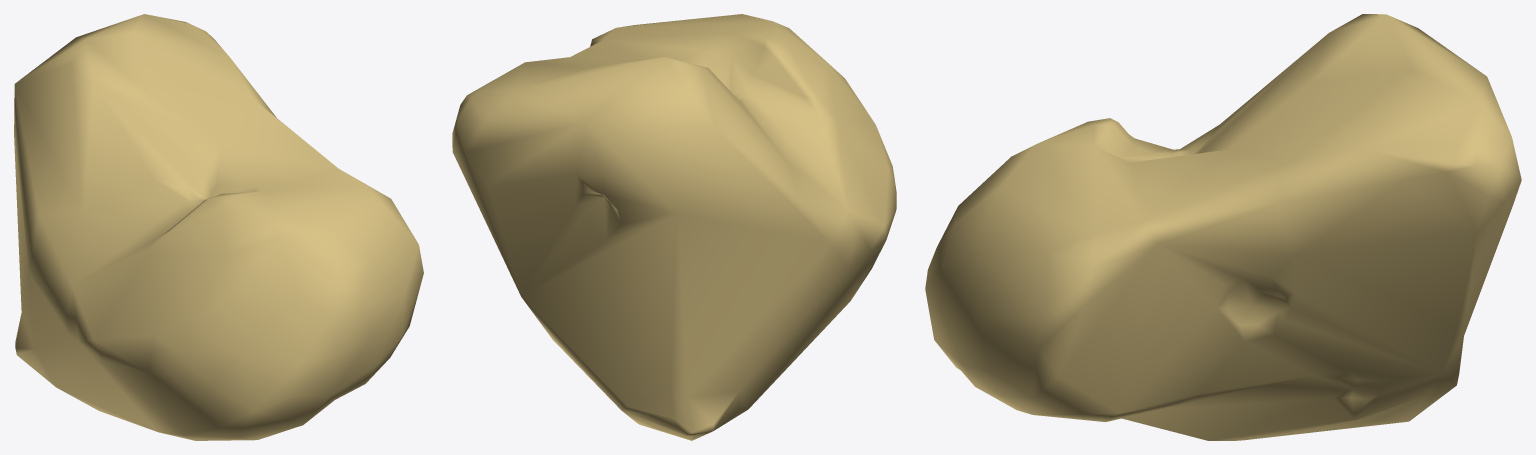
3 views of the same model, side by side, from view 1: azimuth 30°, elevation 25°; view 2: azimuth 150°, elevation 25°; view 3: azimuth 270°, elevation 25° (orthographic). The views are drawn at different scales.
Parts seen in each view (by area): view 1: 右侧头状骨; view 2: 右侧头状骨; view 3: 右侧头状骨.
Boxes of the visible parts, bbox=[...] form: 右侧头状骨: bbox=[14, 14, 423, 440]; 右侧头状骨: bbox=[452, 14, 896, 440]; 右侧头状骨: bbox=[925, 14, 1521, 440].
Bounding box in the file's own units: 0.0245 × 0.0265 × 0.0345.
